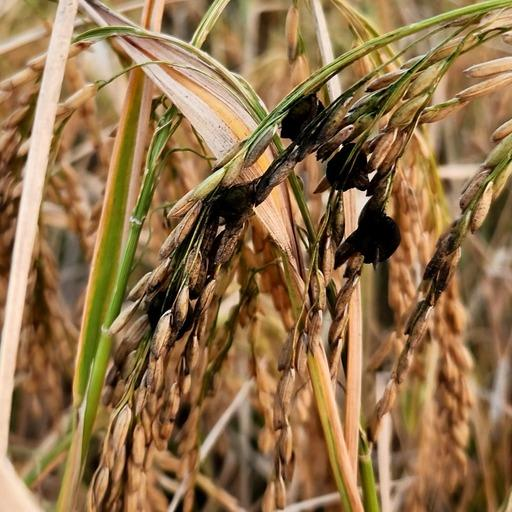Leaf_Scald: (268, 94, 409, 266), (199, 176, 253, 232)
